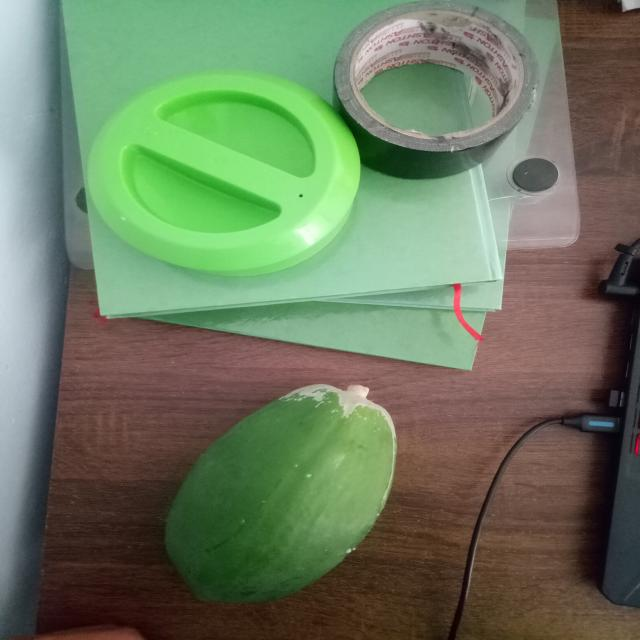Pepaya unrippen: (151, 380, 413, 600)
